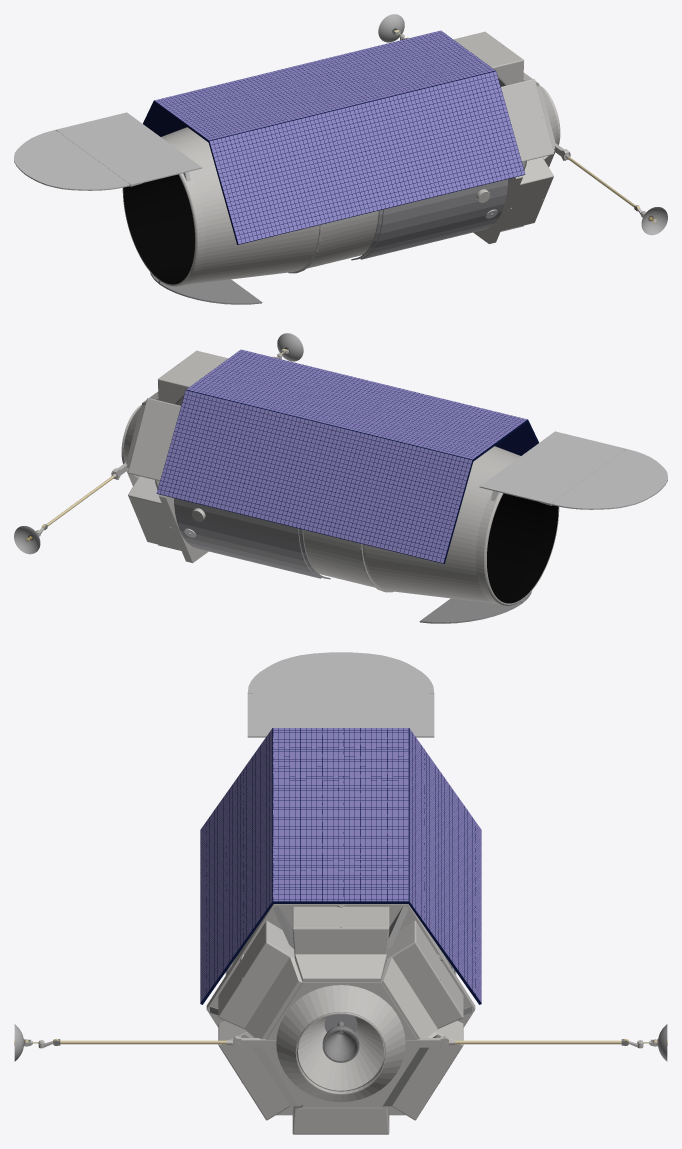
The model's file is Nancy Grace Roman Space Telescope (B).glb.
The picture shows the model from 3 angles, top to bottom: view 1: azimuth 30°, elevation 25°; view 2: azimuth 150°, elevation 25°; view 3: azimuth 270°, elevation 25°; orthographic projection. The views are drawn at different scales.
Visible parts, largest first — view 1: solarpanel, Wfirst-maintube, doors, backboxes, backparts1, dishes; view 2: solarpanel, Wfirst-maintube, doors, backboxes, backparts1, dishes; view 3: solarpanel, backboxes, backparts1, doors, dishes, Wfirst-maintube.
Part boxes in pixels (x1,y1,x2,y2): solarpanel: (143,30,525,244); Wfirst-maintube: (122,127,522,286); doors: (14,112,262,304); backboxes: (453,31,555,231); backparts1: (351,76,560,260); dishes: (378,14,667,235); solarpanel: (156,349,538,563); Wfirst-maintube: (159,446,559,605); doors: (419,431,667,623); backboxes: (126,350,228,550); backparts1: (121,395,330,579); dishes: (14,333,303,554); solarpanel: (200,728,481,1004); backboxes: (218,905,463,1134); backparts1: (210,905,471,1104); doors: (247,652,434,737); dishes: (14,1024,667,1061); Wfirst-maintube: (206,904,475,1115).
Bounding box in the file's own units: 412 × 131 × 364.
